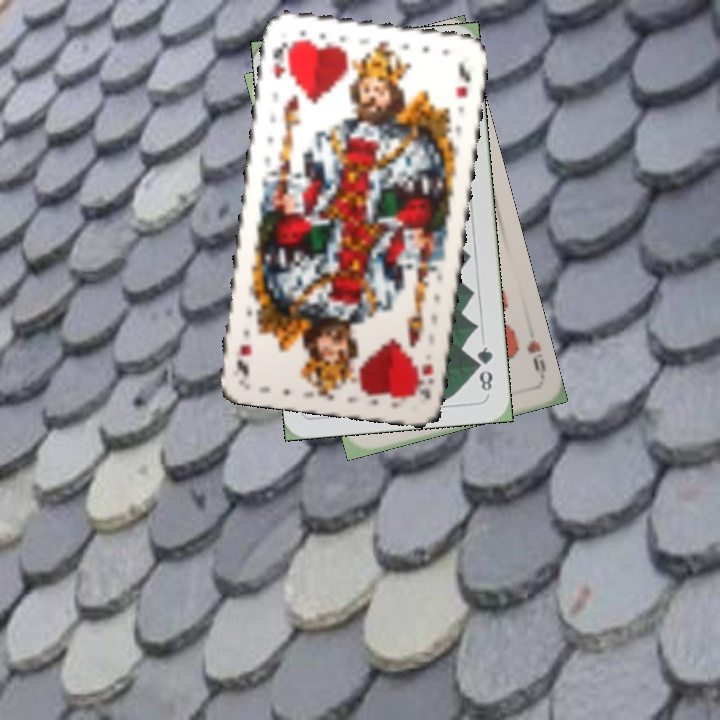G8: (472, 342, 496, 394)
H9: (522, 335, 549, 381)
HK: (267, 36, 296, 82), (410, 360, 437, 402)
